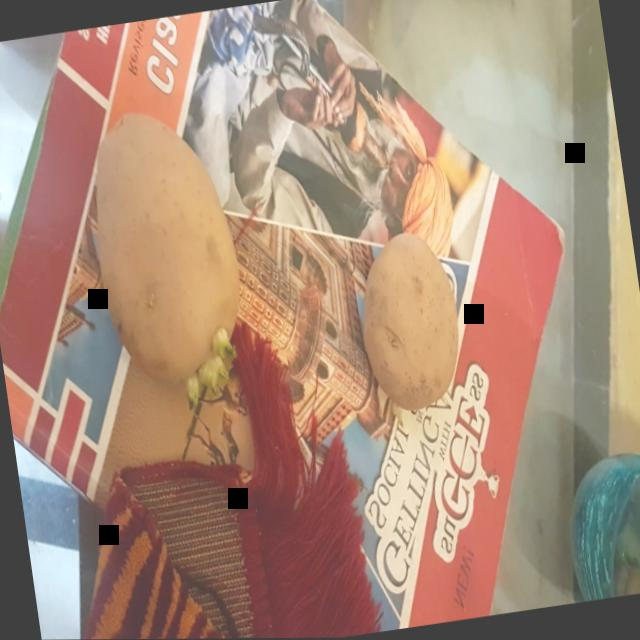potato: (69, 90, 264, 415), (344, 229, 474, 429)
